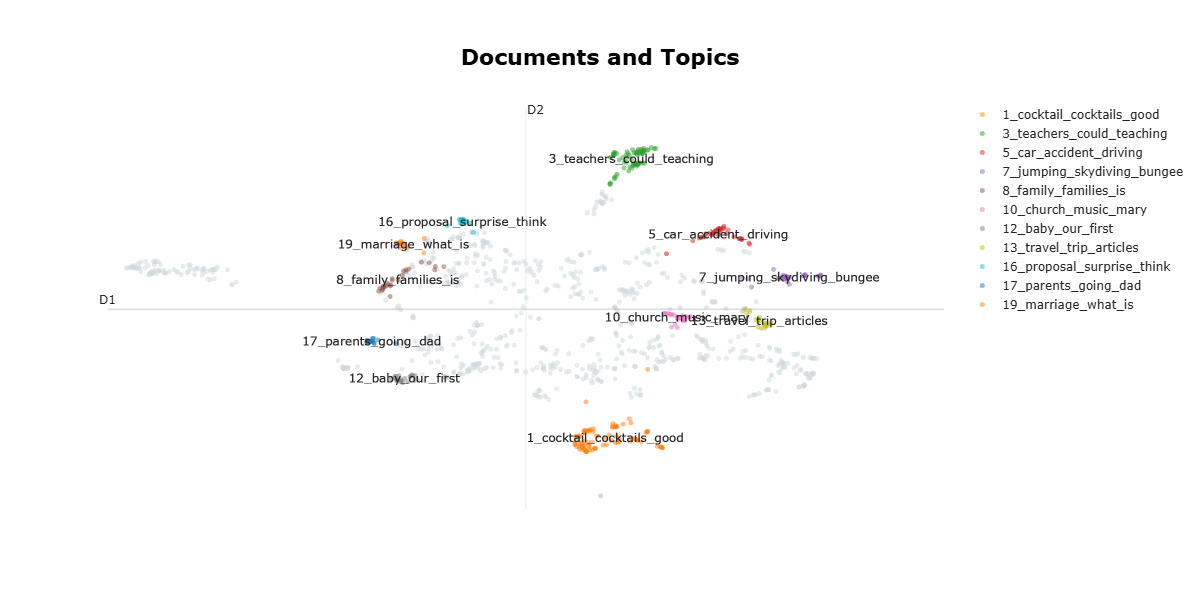

The dashboard page shown, as its layout file describes it:
{"tool":"tableau","page":{"name":"Communication Density Analysis","canvas":[1366,768],"ordinal":0},"visuals":[{"type":"text","box":[0,0,1366,119]},{"type":"blank","box":[0,119,1366,5]},{"type":"worksheet","title":"Sheet 1","mark":"Automatic","rows":["Chat (faked_chat_data_unbalanced.csv)"],"cols":["Date (faked_chat_data_unbalanced.csv)"],"box":[0,124,1366,644]}]}

Visuals, with their boxes on the page's 1366x768 design canvas (x1, y1, x2, y2). These are canvas units, not pixel positions in the 1200x600 screenshot, which may show the page scaled, cropped or inside an application window:
text: 0,0,1366,119
blank: 0,119,1366,124
"Sheet 1" worksheet: 0,124,1366,768
